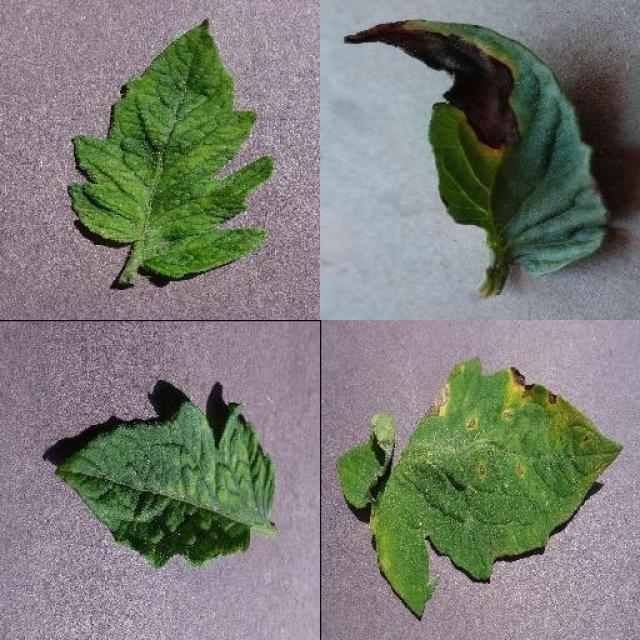Early Blight: (342, 18, 614, 278)
Septoria: (375, 355, 625, 617)
